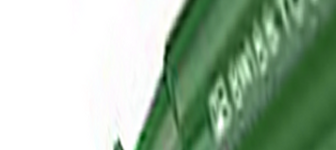Screwdriver: (111, 1, 336, 150)
